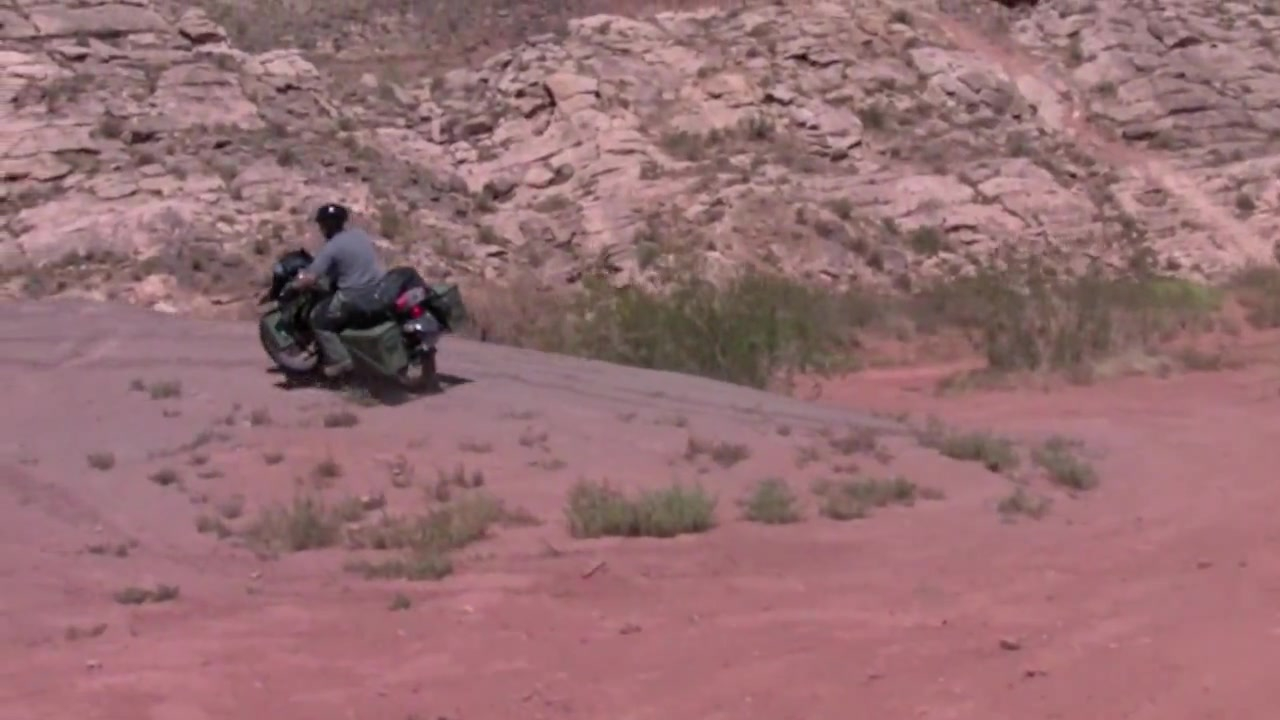motorbike: (257, 248, 454, 409)
